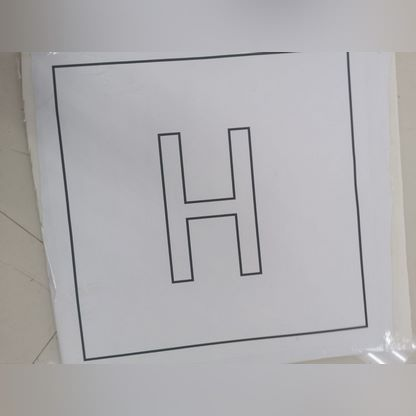H: (134, 109, 277, 296)
